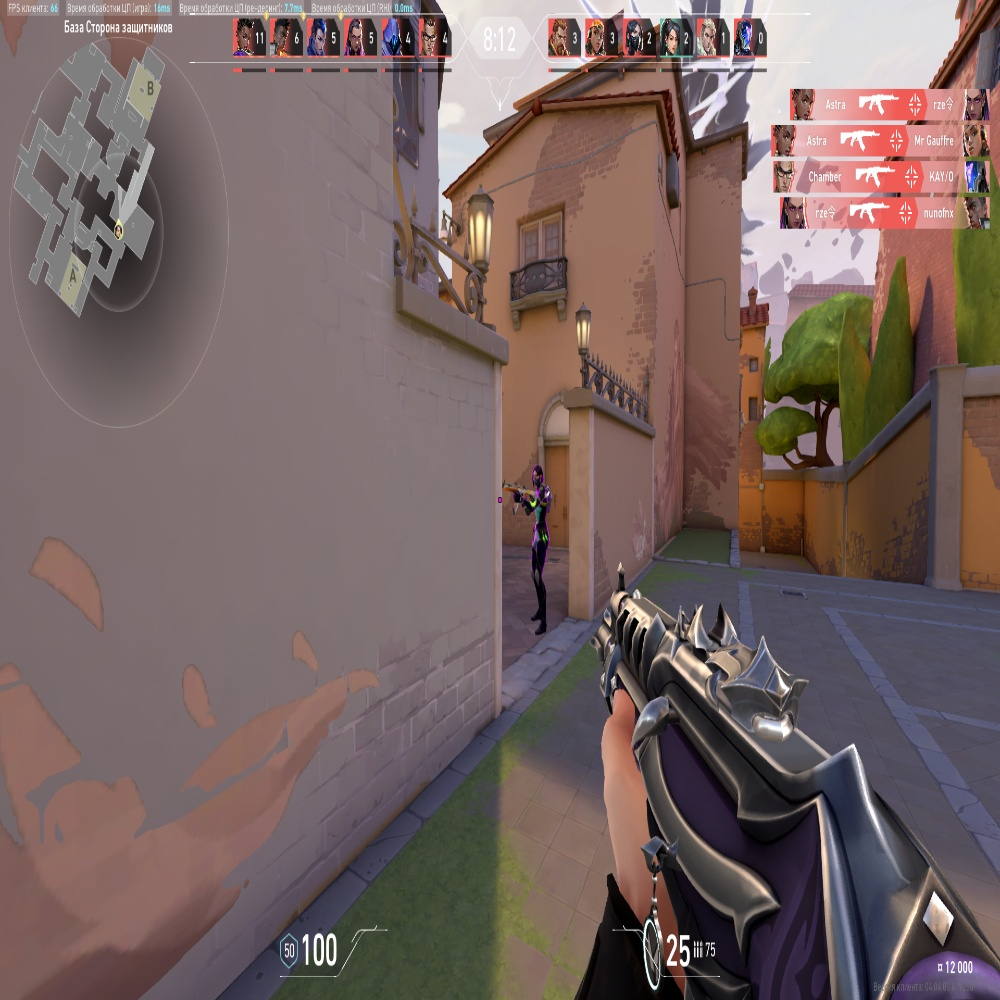body: (535, 492, 547, 538)
head: (533, 467, 543, 487)
